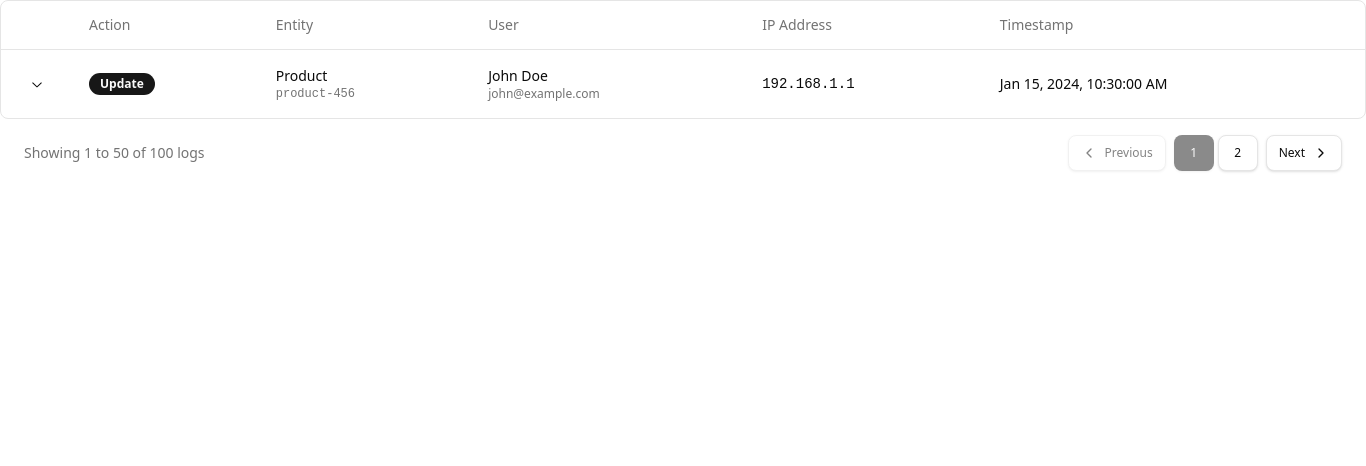
Test: AuditLogsTable › should collapse row when chevron button clicked again
Expected: the text "Product" is shown, [276,66,327,84]
Expand row
Click the button named "expand row" at (37,84), box [17,66,57,102]
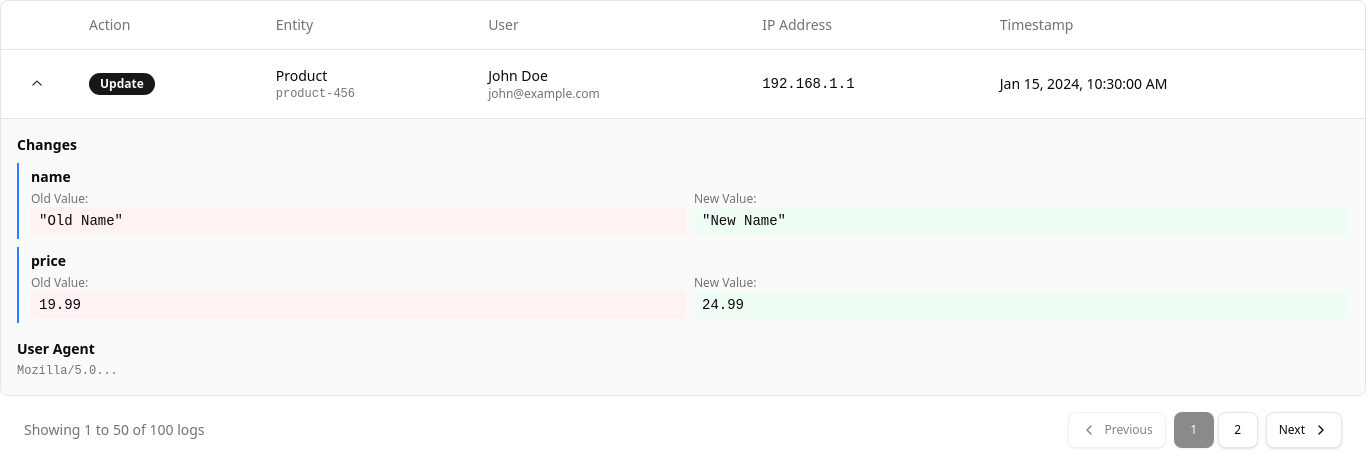
Expected: the text "\"Old Name\"" is shown, [31,206,686,234]
Collapse row
Click the button named "collapse row" at (37,84), box [17,66,57,102]
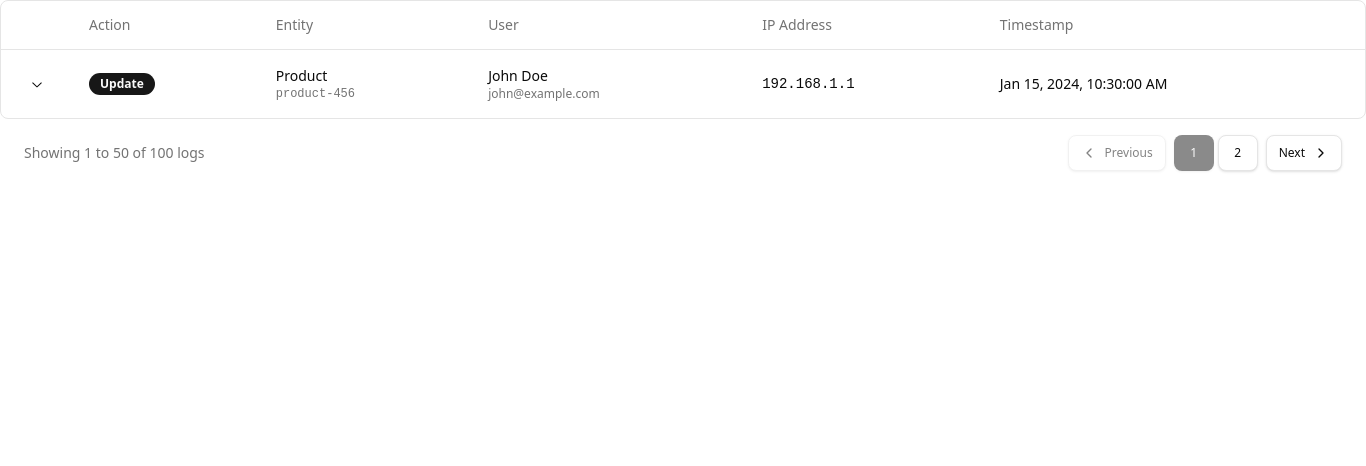
Expected: the text "\"Old Name\"" is gone
